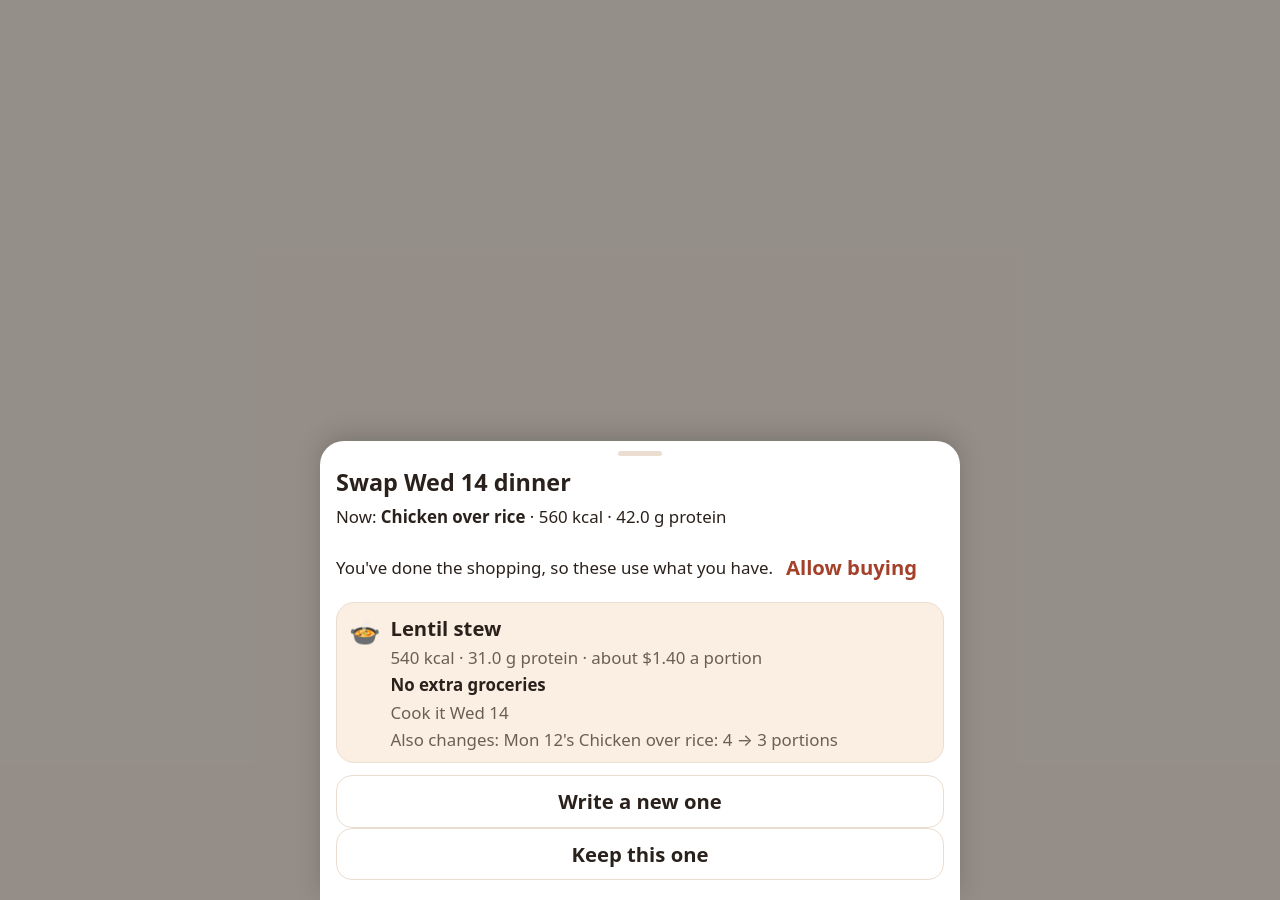
the Swap sheet › after Done shopping: options use what you have, and Allow buying asks again
Expected: the text "You've done the shopping, so these use what you have." is shown, [336, 555, 773, 580]
Click the button "Allow buying".
click(852, 568)  # box [781, 541, 922, 594]
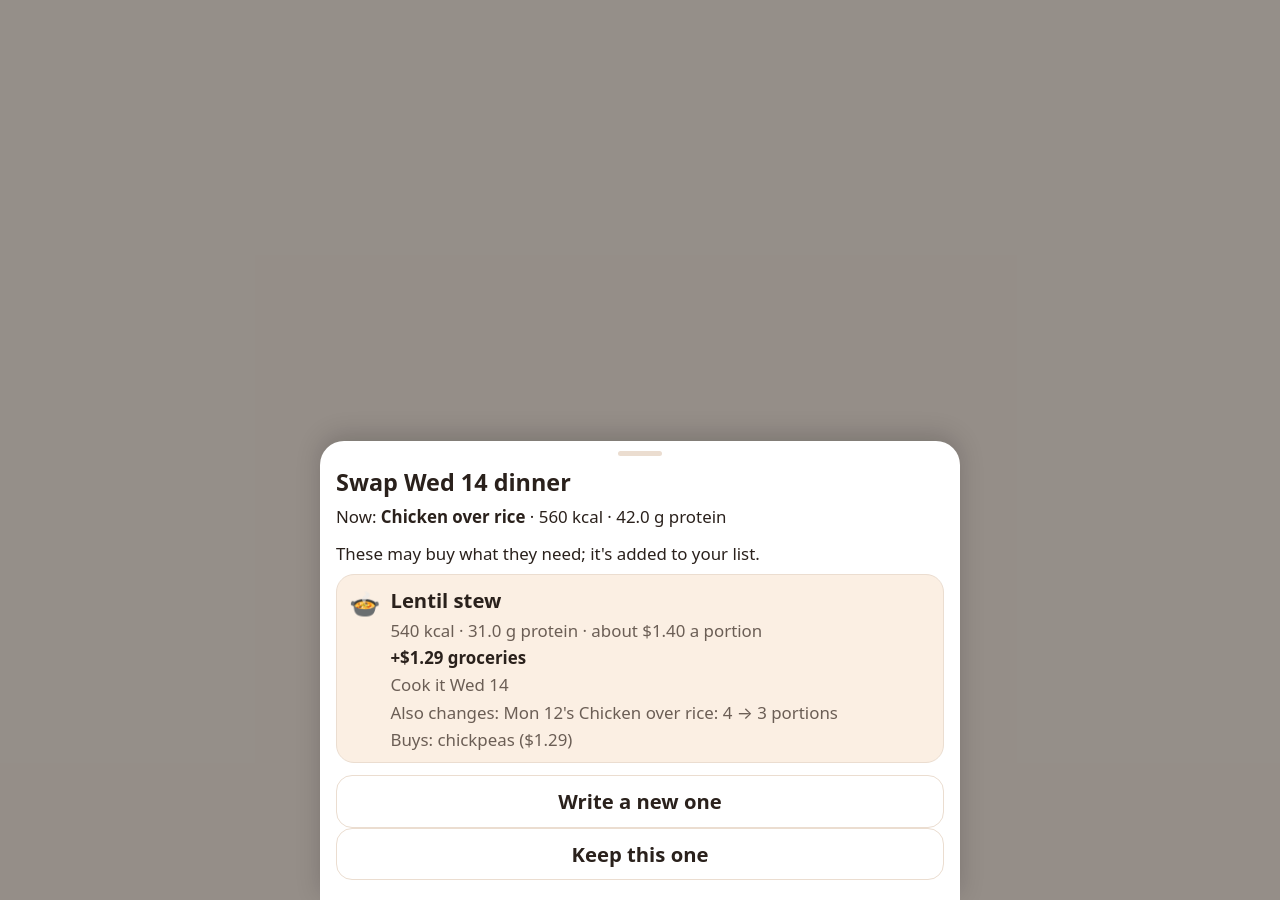
Result: the text "Buys: chickpeas ($1.29)" is shown at [390, 728, 572, 751]
